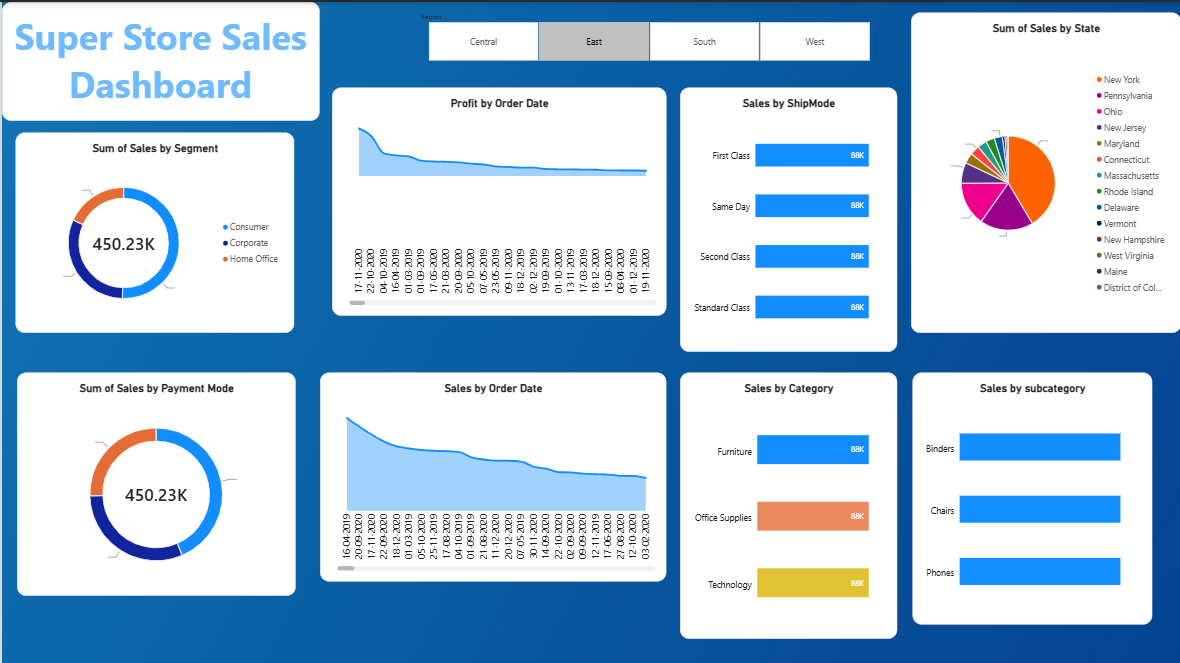

Layout of this report page (visuals, bound fields, positions):
{"tool":"powerbi","page":{"name":"Page 1","canvas":[1920,1080],"ordinal":0},"visuals":[{"type":"clusteredBarChart","title":"Sales by Category","fields":{"Category":["SuperStore_Sales_Dataset (2).Category"],"Y":["Sum(SuperStore_Sales_Dataset.Sales)"]},"box":[1103.3,603.3,353.3,433.3],"z":0},{"type":"clusteredBarChart","title":"Sales by subcategory","fields":{"Category":["SuperStore_Sales_Dataset (2).Sub-Category"],"Y":["Sum(SuperStore_Sales_Dataset.Sales)"]},"box":[1480,603.3,390,410],"z":1},{"type":"clusteredBarChart","title":"Sales by ShipMode","fields":{"Category":["SuperStore_Sales_Dataset (2).Ship Mode"],"Y":["Sum(SuperStore_Sales_Dataset.Sales)"]},"box":[1103.3,140,353.3,430],"z":2},{"type":"stackedAreaChart","title":"Sales by Order Date","fields":{"Category":["SuperStore_Sales_Dataset (2).Order Date"],"Y":["Sum(SuperStore_Sales_Dataset (2).Sales)"]},"box":[516.7,603.3,563.3,340],"z":3},{"type":"stackedAreaChart","title":"Profit by Order Date","fields":{"Category":["SuperStore_Sales_Dataset (2).Order Date"],"Y":["Sum(SuperStore_Sales_Dataset (2).Profit)"]},"box":[535.8,138.9,544.3,371.3],"z":4},{"type":"pieChart","fields":{"Category":["SuperStore_Sales_Dataset (2).State"],"Y":["Sum(SuperStore_Sales_Dataset (2).Sales)"]},"box":[1479.7,17,439.4,521.6],"z":5},{"type":"donutChart","fields":{"Category":["SuperStore_Sales_Dataset (2).Segment"],"Y":["Sum(SuperStore_Sales_Dataset (2).Sales)"]},"box":[22.7,212.6,453.5,326],"z":6},{"type":"donutChart","fields":{"Category":["SuperStore_Sales_Dataset (2).Payment Mode"],"Y":["Sum(SuperStore_Sales_Dataset (2).Sales)"]},"box":[23.3,603.3,453.3,363.3],"z":7},{"type":"slicer","fields":{"Values":["SuperStore_Sales_Dataset (2).Region"]},"box":[673.3,16.7,756.7,80],"z":8},{"type":"textbox","box":[0,0,516.7,193.3],"z":9}]}

Visuals, with their boxes in screenshot pixels (x1, y1, x2, y2), scaled from the page's 1920x1080 canvas onto the 1180x663 screenshot:
"Sales by Category" clusteredBarChart: [left=678, top=370, right=895, bottom=636]
"Sales by subcategory" clusteredBarChart: [left=910, top=370, right=1149, bottom=622]
"Sales by ShipMode" clusteredBarChart: [left=678, top=86, right=895, bottom=350]
"Sales by Order Date" stackedAreaChart: [left=318, top=370, right=664, bottom=579]
"Profit by Order Date" stackedAreaChart: [left=329, top=85, right=664, bottom=313]
pieChart - SuperStore_Sales_Dataset (2).State x Sum(SuperStore_Sales_Dataset (2).Sales): [left=909, top=10, right=1179, bottom=331]
donutChart - SuperStore_Sales_Dataset (2).Segment x Sum(SuperStore_Sales_Dataset (2).Sales): [left=14, top=131, right=293, bottom=331]
donutChart - SuperStore_Sales_Dataset (2).Payment Mode x Sum(SuperStore_Sales_Dataset (2).Sales): [left=14, top=370, right=293, bottom=593]
slicer - SuperStore_Sales_Dataset (2).Region: [left=414, top=10, right=879, bottom=59]
textbox: [left=0, top=0, right=318, bottom=119]
